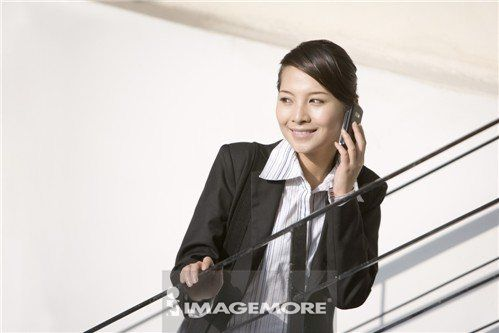talk: (277, 86, 365, 189)
